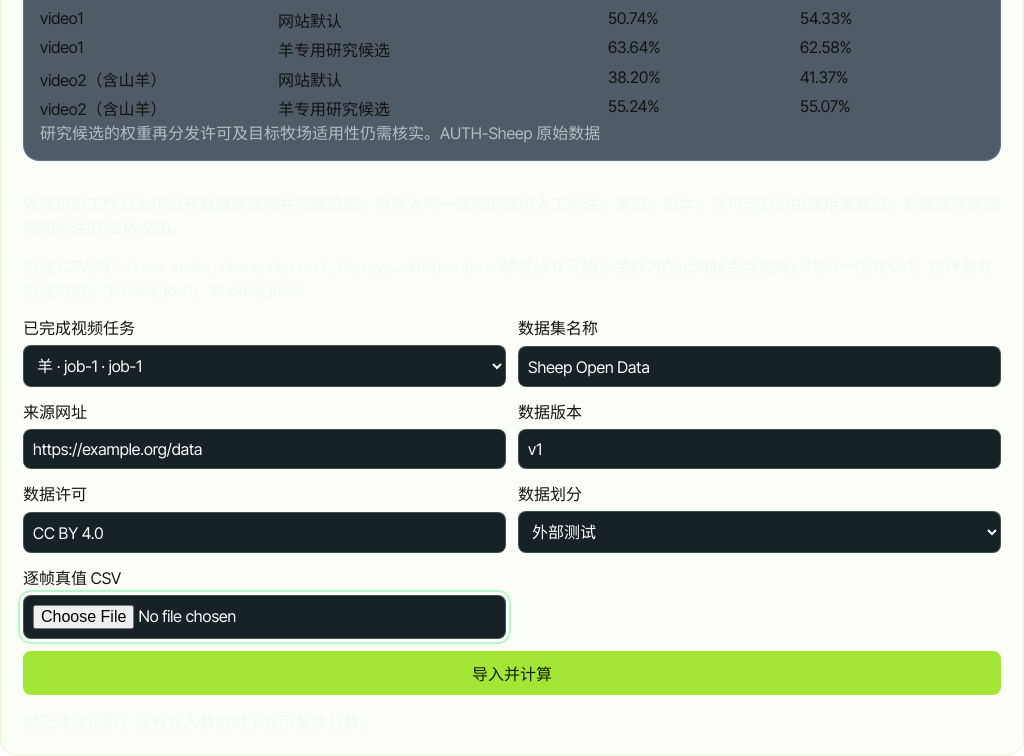
Scenario: imports annotated public sequence and shows measured values with provenance
Earlier steps of the test are not shown.
(page scrolled)
Click the button "导入并计算". click: (512, 673)
box: [23,651,1001,695]
(page scrolled)
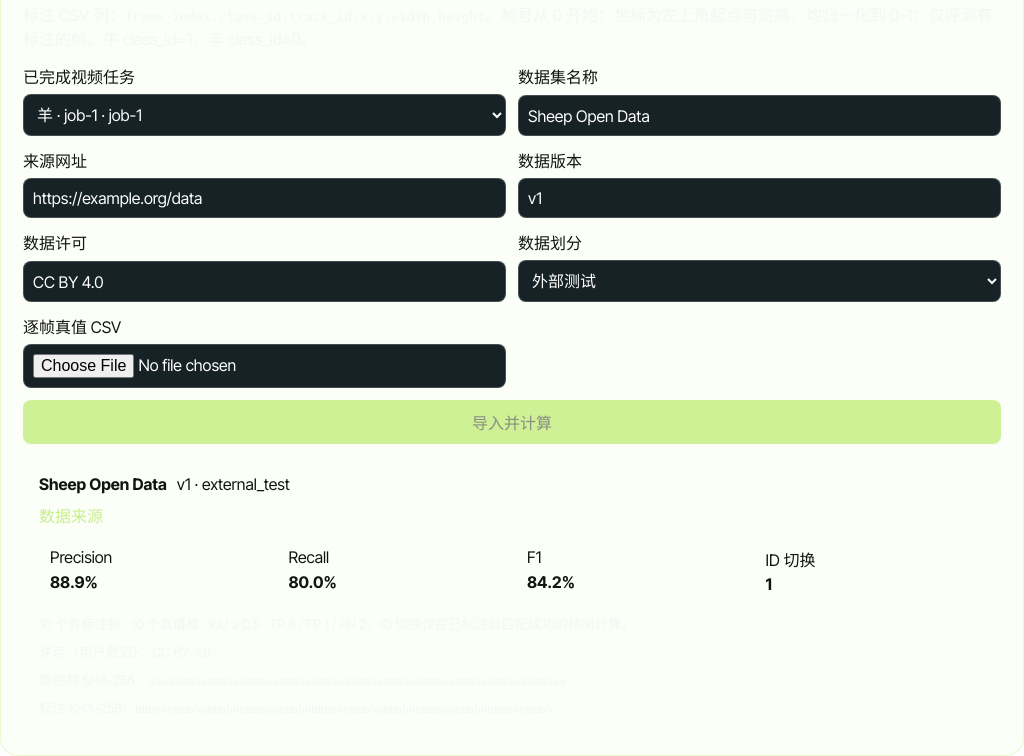
Expected: the text "Sheep Open Data" is shown, [39,474,167,494]
Expected: the text "1" is shown, [766,574,772,594]
Expected: the text "80.0%" is shown, [288,572,337,592]
